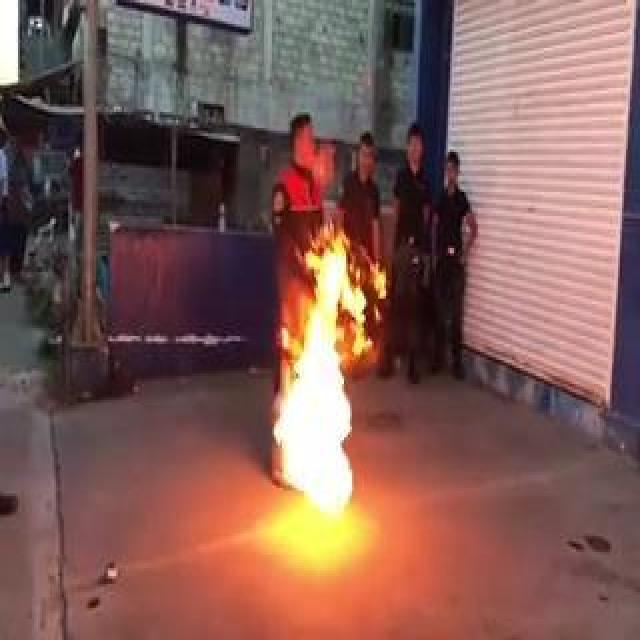Fire: (265, 222, 395, 510)
